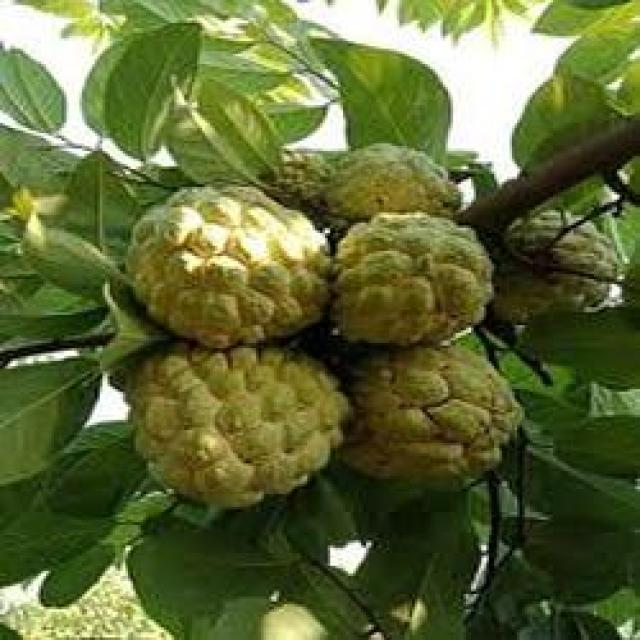apple: (102, 338, 358, 509), (120, 179, 336, 346), (346, 338, 528, 504), (322, 210, 502, 346)
